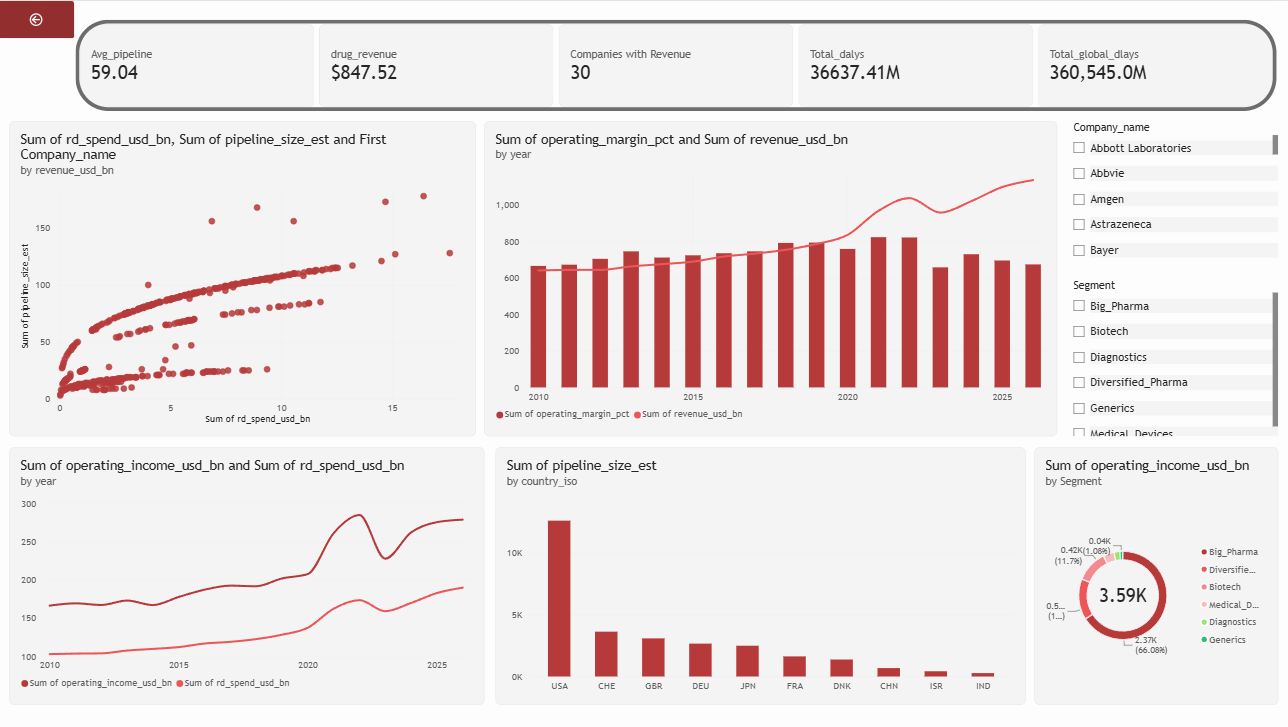

The dashboard page shown, as its layout file describes it:
{"tool":"powerbi","page":{"name":"Pharma_Funding","canvas":[1920,1080],"ordinal":1},"visuals":[{"type":"scatterChart","fields":{"Category":["Pharma_finance.revenue_usd_bn"],"X":["Sum(Pharma_finance.rd_spend_usd_bn)"],"Y":["Sum(Pharma_finance.pipeline_size_est)"]},"box":[16.3,177.3,691.3,466.9],"z":0},{"type":"donutChart","fields":{"Category":["Pharma_finance.Segment"],"Y":["Sum(Pharma_finance.operating_income_usd_bn)"]},"box":[1534.6,660.5,361.9,381.8],"z":1000},{"type":"cardVisual","fields":{"Data":["1Table.Avg_pipeline","1Table.drug_revenue","1Table.Companies with Revenue","1Table.Total_dalys","1Table.Total_global_dlays"]},"box":[114,27.1,1782.5,135.7],"z":2000},{"type":"actionButton","box":[0,0,113.2,55.6],"z":3000},{"type":"lineChart","fields":{"Category":["Pharma_finance.year"],"Y":["Sum(Pharma_finance.operating_income_usd_bn)","Sum(Pharma_finance.rd_spend_usd_bn)"]},"box":[16.3,660.5,704,381.8],"z":4000},{"type":"columnChart","fields":{"Category":["Pharma_finance.country_iso"],"Y":["Sum(Pharma_finance.pipeline_size_est)"]},"box":[736.5,660.5,785.4,381.8],"z":5000},{"type":"lineStackedColumnComboChart","fields":{"Category":["Pharma_finance.year"],"Y":["Sum(Pharma_finance.operating_margin_pct)"],"Y2":["Sum(Pharma_finance.revenue_usd_bn)"]},"box":[720.2,177.3,848.7,466.9],"z":6000},{"type":"slicer","fields":{"Values":["Pharma_finance.Company_name"]},"box":[1585.3,177.3,311.3,204.5],"z":7000},{"type":"slicer","fields":{"Values":["Pharma_finance.Segment"]},"box":[1585.3,410.8,311.3,233.4],"z":8000}]}

Visuals, with their boxes in screenshot pixels (x1, y1, x2, y2), scaled from the page's 1920x1080 canvas onto the 1288x727 screenshot:
scatterChart - Pharma_finance.revenue_usd_bn x Sum(Pharma_finance.rd_spend_usd_bn): left=11, top=119, right=475, bottom=434
donutChart - Pharma_finance.Segment x Sum(Pharma_finance.operating_income_usd_bn): left=1029, top=445, right=1272, bottom=702
cardVisual - 1Table.Avg_pipeline x 1Table.drug_revenue: left=76, top=18, right=1272, bottom=110
actionButton: left=0, top=0, right=76, bottom=37
lineChart - Pharma_finance.year x Sum(Pharma_finance.operating_income_usd_bn): left=11, top=445, right=483, bottom=702
columnChart - Pharma_finance.country_iso x Sum(Pharma_finance.pipeline_size_est): left=494, top=445, right=1021, bottom=702
lineStackedColumnComboChart - Pharma_finance.year x Sum(Pharma_finance.operating_margin_pct): left=483, top=119, right=1052, bottom=434
slicer - Pharma_finance.Company_name: left=1063, top=119, right=1272, bottom=257
slicer - Pharma_finance.Segment: left=1063, top=277, right=1272, bottom=434
